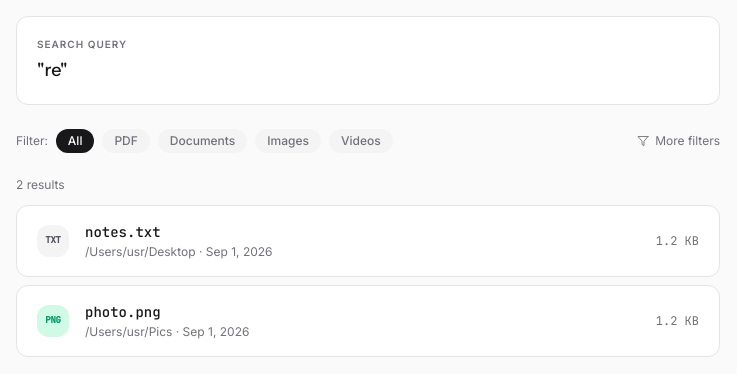
Search › restores all results when switching back to the All chip
This screenshot has width=737, height=374.
Click the button "PDF" at (126, 141), box [102,129,150,153]
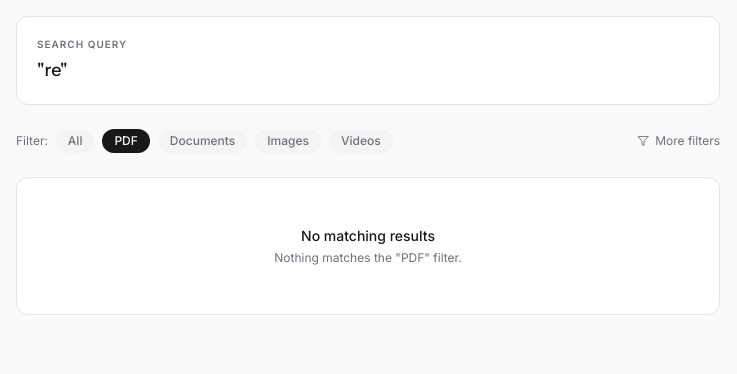
Expected: the text "No matching results" is shown, [301,227,435,244]
Click the button "All" at (75, 141), box [56,129,94,153]
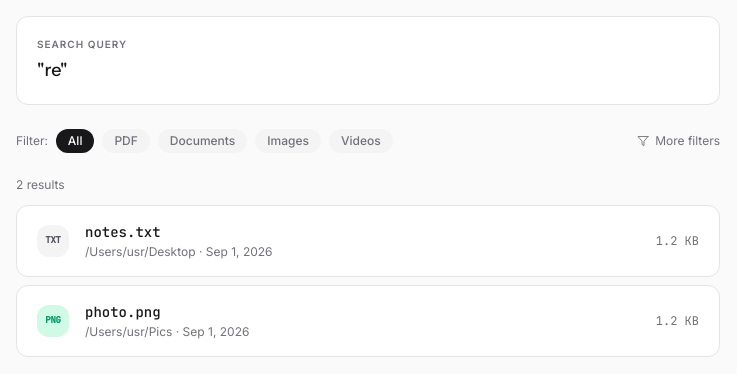
Expected: the text "notes.txt" is shown, [85,223,161,241]
Expected: the text "photo.png" is shown, [85,303,161,321]
